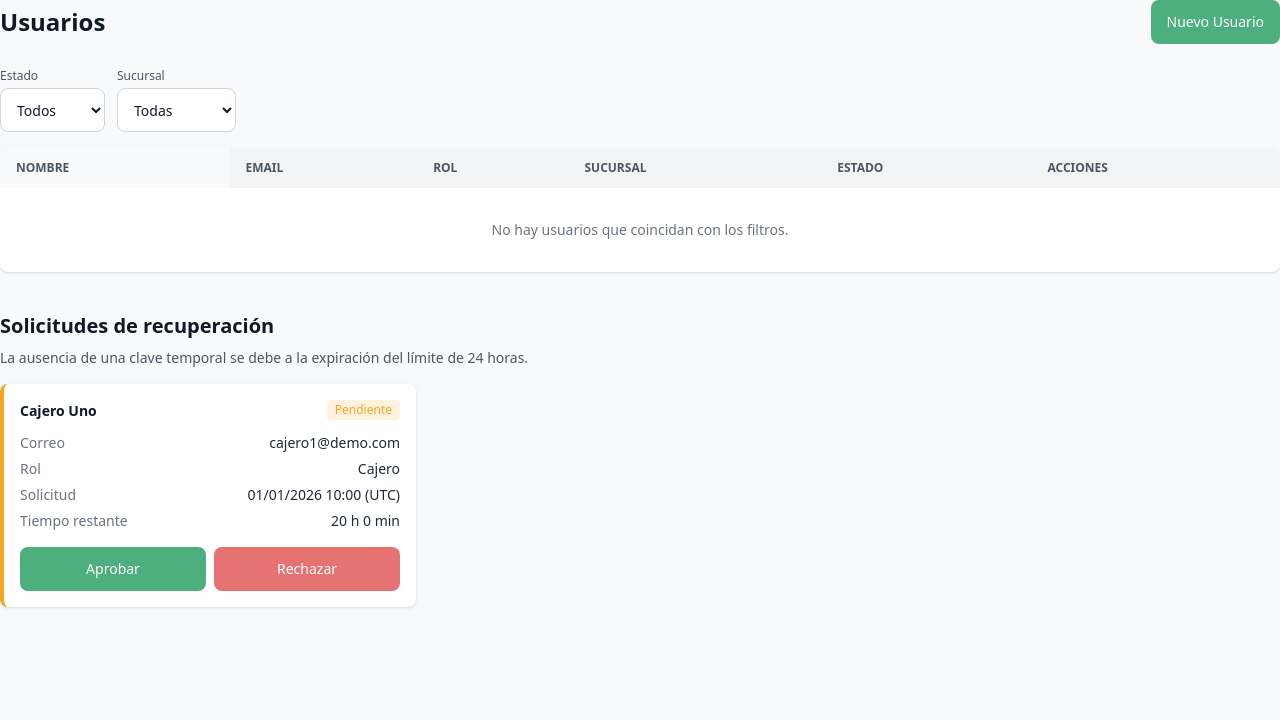
Test: UsuariosPage — bloque de contraseña temporal (tarea 21.3) › revela la temporal en bloque monoespaciado tras aprobar y la copia al portapapeles
This screenshot has width=1280, height=720.
expect the heading "Cajero Uno" is shown: met, box [20,400,97,421]
Click the button with aria-label "aprobar la solicitud de" at (113, 569), box [20,547,206,591]
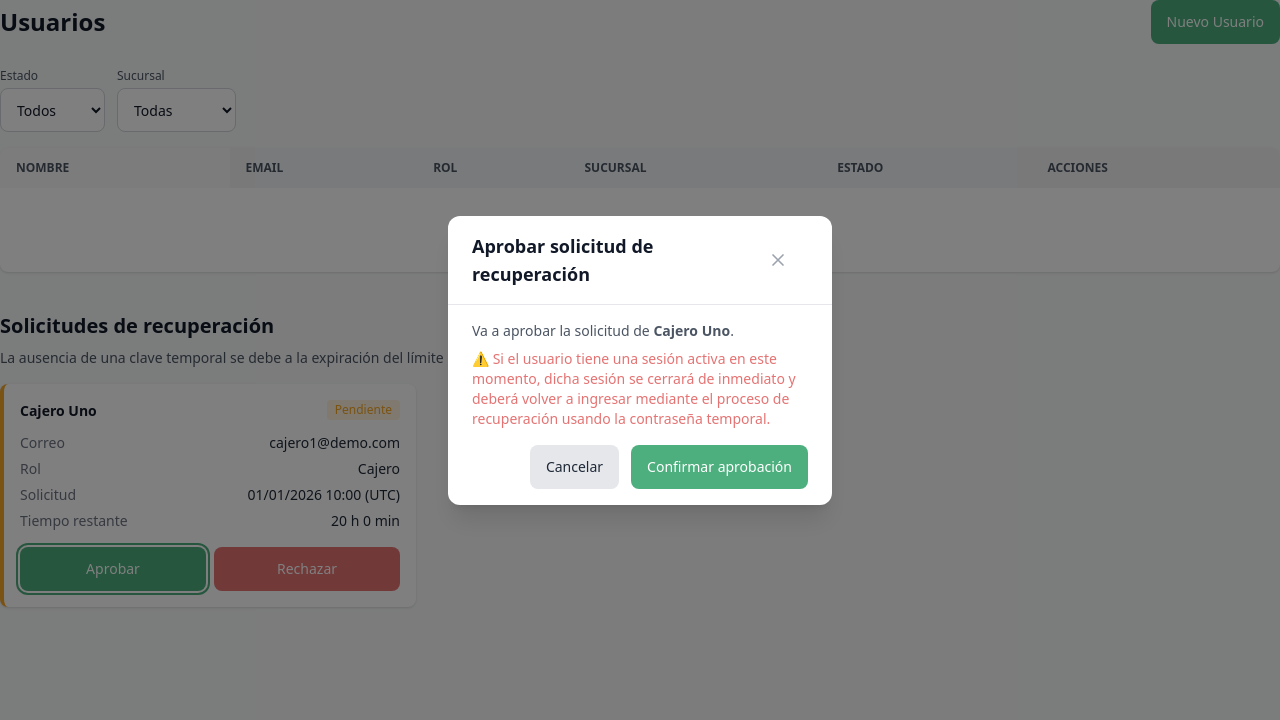
Click the button "Confirmar aprobación" at (720, 466), box [631,444,808,488]
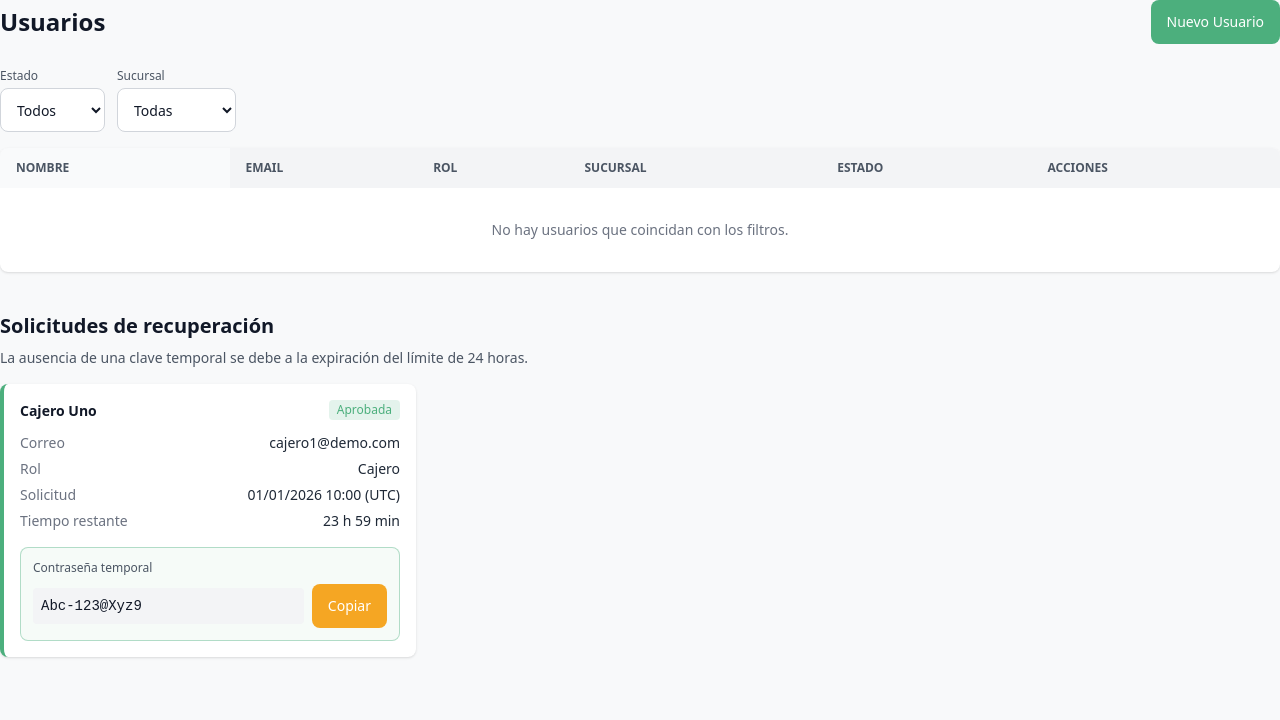
expect the text named "Contraseña temporal de Cajero Uno" reads "Abc-123@Xyz9": met, box [41,598,142,614]
Click the button with aria-label "copiar la contraseña temporal de" at (349, 606), box [312,584,387,628]
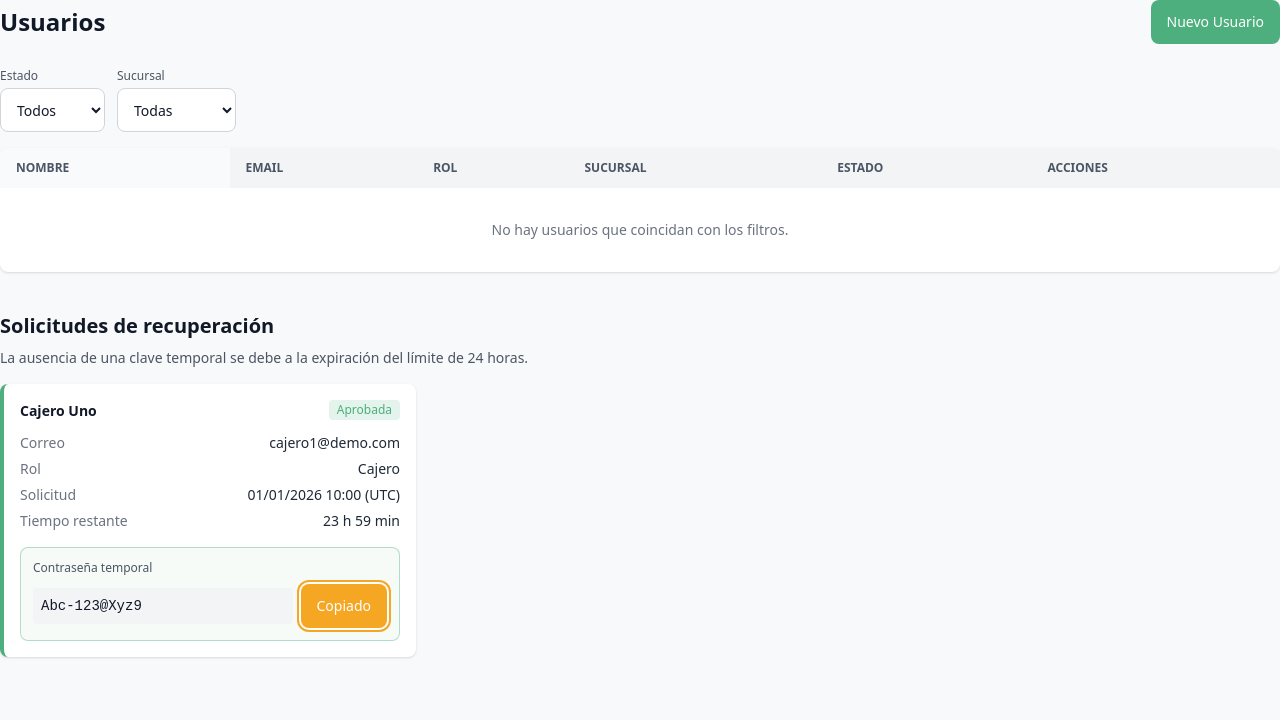
expect the button with aria-label "copiar la contraseña temporal de" reads "Copiado": met, box [300,584,387,628]
